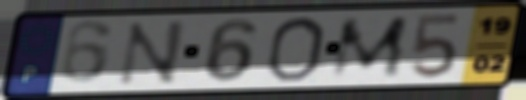5: (406, 11, 464, 81)
6: (58, 17, 118, 91), (201, 17, 261, 85)
M: (327, 13, 412, 82)
N: (114, 18, 189, 88)
O: (262, 15, 329, 84)
